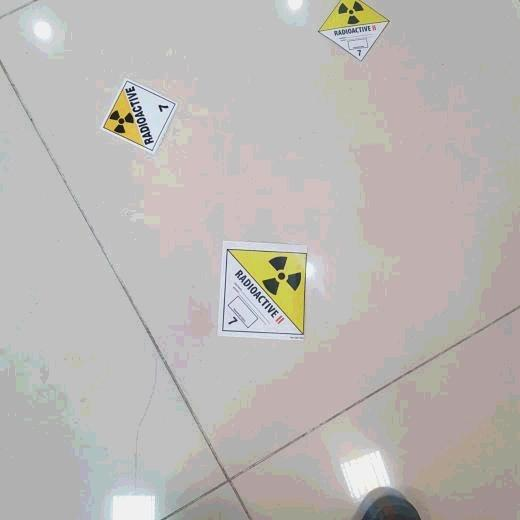radioactive: (222, 244, 309, 338), (100, 74, 178, 153), (315, 1, 392, 63)
